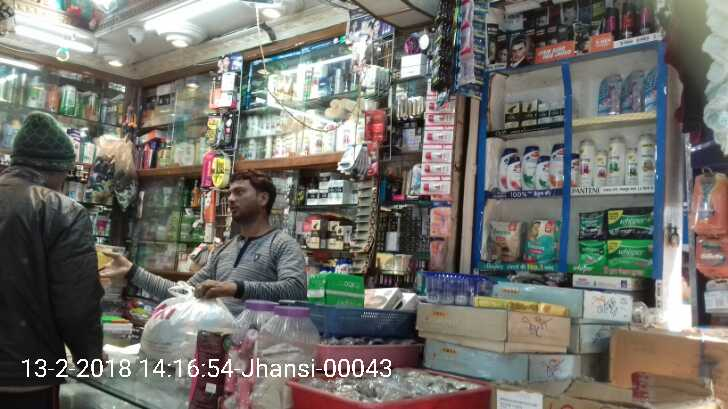venus: (597, 68, 623, 119), (623, 68, 643, 109), (643, 68, 661, 109)
